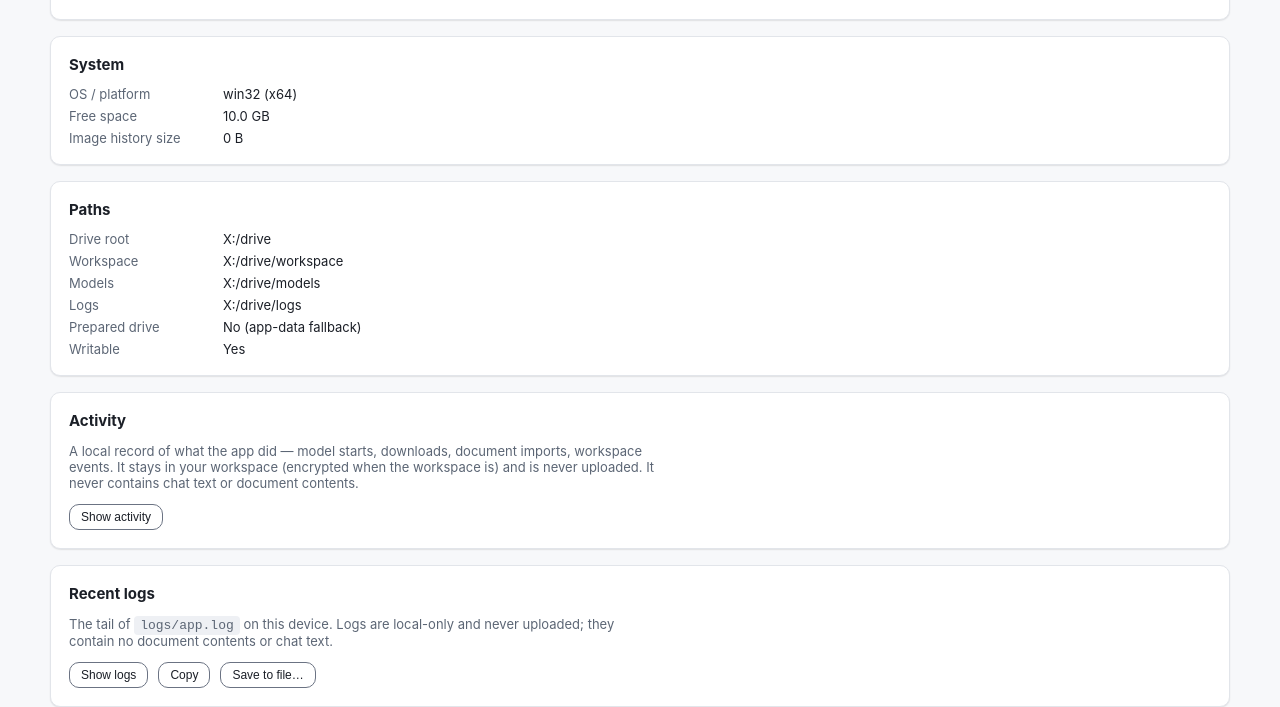
Scenario: Settings → Diagnostics (advanced) — copy & save logs › copies the logs from a fresh tail read
The width and height of the screenshot is (1280, 707).
(page scrolled)
Note: Logs Copy is the last Copy button (App, Benchmark, Logs).
Click the button "Copy": click(184, 675) [158, 662, 210, 688]
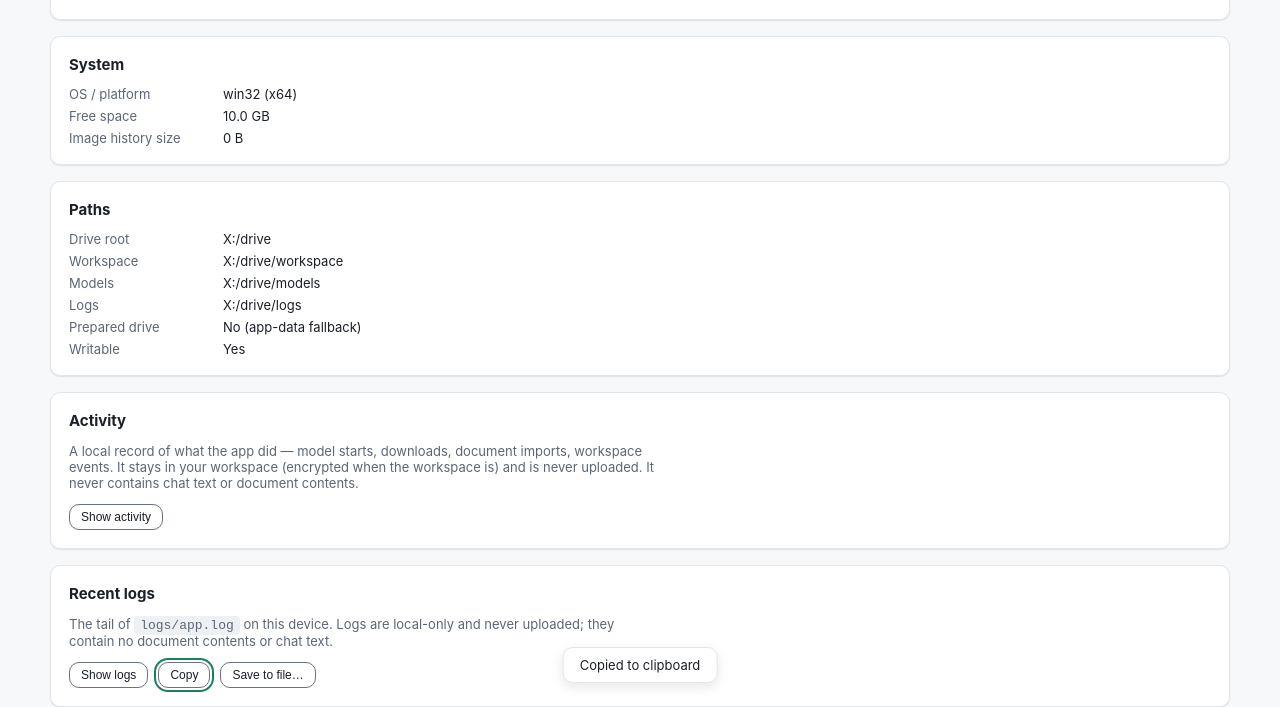
Expected: the text "Copied to clipboard" is shown, [563, 647, 717, 683]
